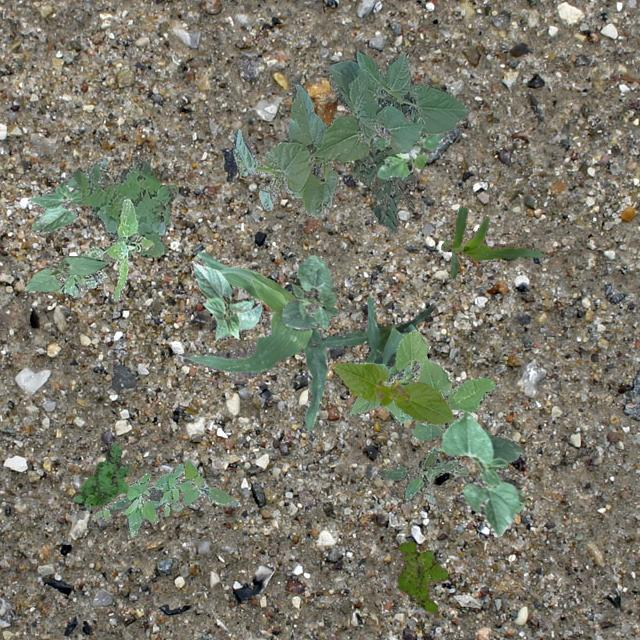crop: (232, 48, 468, 215), (176, 250, 326, 430), (438, 409, 524, 536), (310, 296, 434, 366), (439, 205, 544, 278), (332, 361, 452, 424), (27, 156, 106, 232), (190, 260, 262, 340), (280, 253, 338, 329), (23, 256, 108, 292)
weed: (348, 330, 493, 440), (72, 156, 176, 256), (53, 198, 153, 300), (90, 462, 192, 536), (352, 140, 416, 232), (378, 446, 466, 504), (73, 440, 128, 510), (396, 542, 446, 610), (370, 132, 442, 178), (180, 458, 240, 506)
